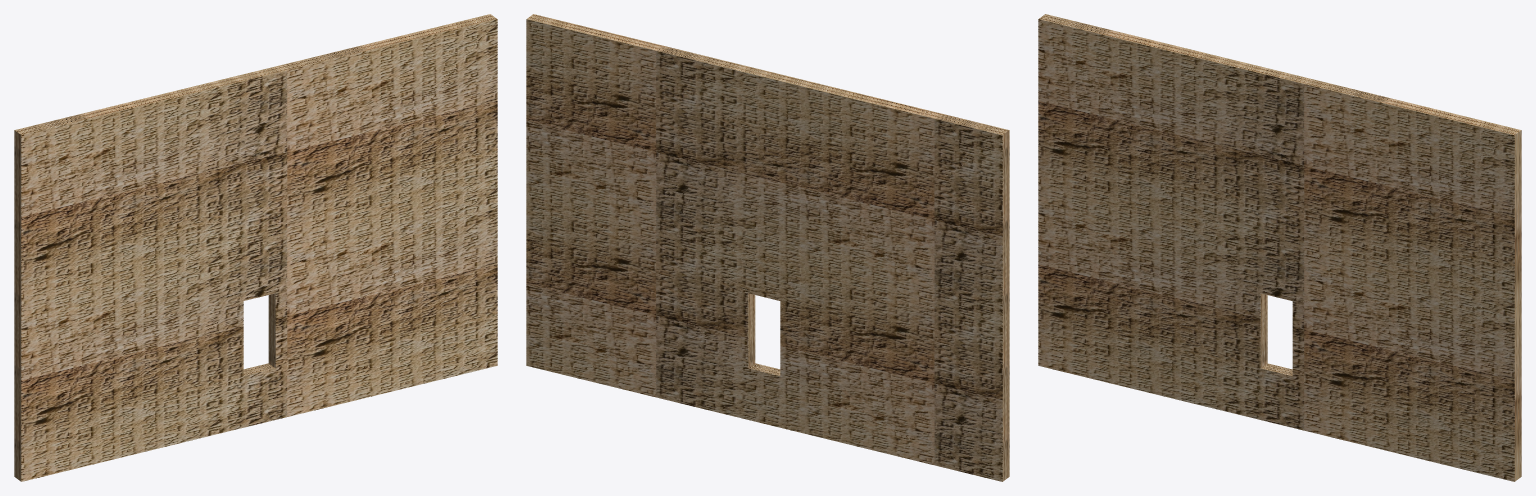
Rendered from Wall_InsideRm2.obj.
The picture shows the model from 3 angles, left to right: view 1: azimuth 30°, elevation 25°; view 2: azimuth 150°, elevation 25°; view 3: azimuth 330°, elevation 25°; orthographic projection.
Visible parts, largest first — view 1: Wall_InsideRm2_Cube.008; view 2: Wall_InsideRm2_Cube.008; view 3: Wall_InsideRm2_Cube.008.
Boxes of the visible parts, x1,y1,x2,y2 form: Wall_InsideRm2_Cube.008: [14, 14, 497, 481]; Wall_InsideRm2_Cube.008: [526, 14, 1009, 481]; Wall_InsideRm2_Cube.008: [1038, 14, 1521, 481].
Size of the model in its own units: 9.23 by 6.43 by 0.235.
